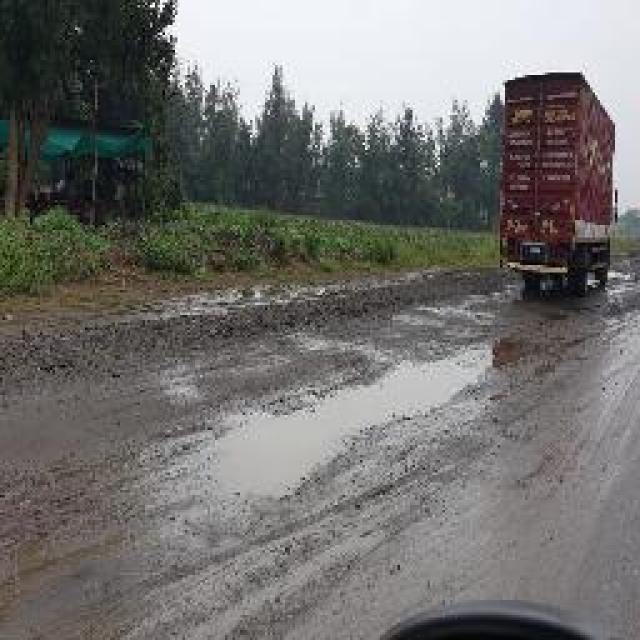stagnation: (182, 356, 529, 494)
